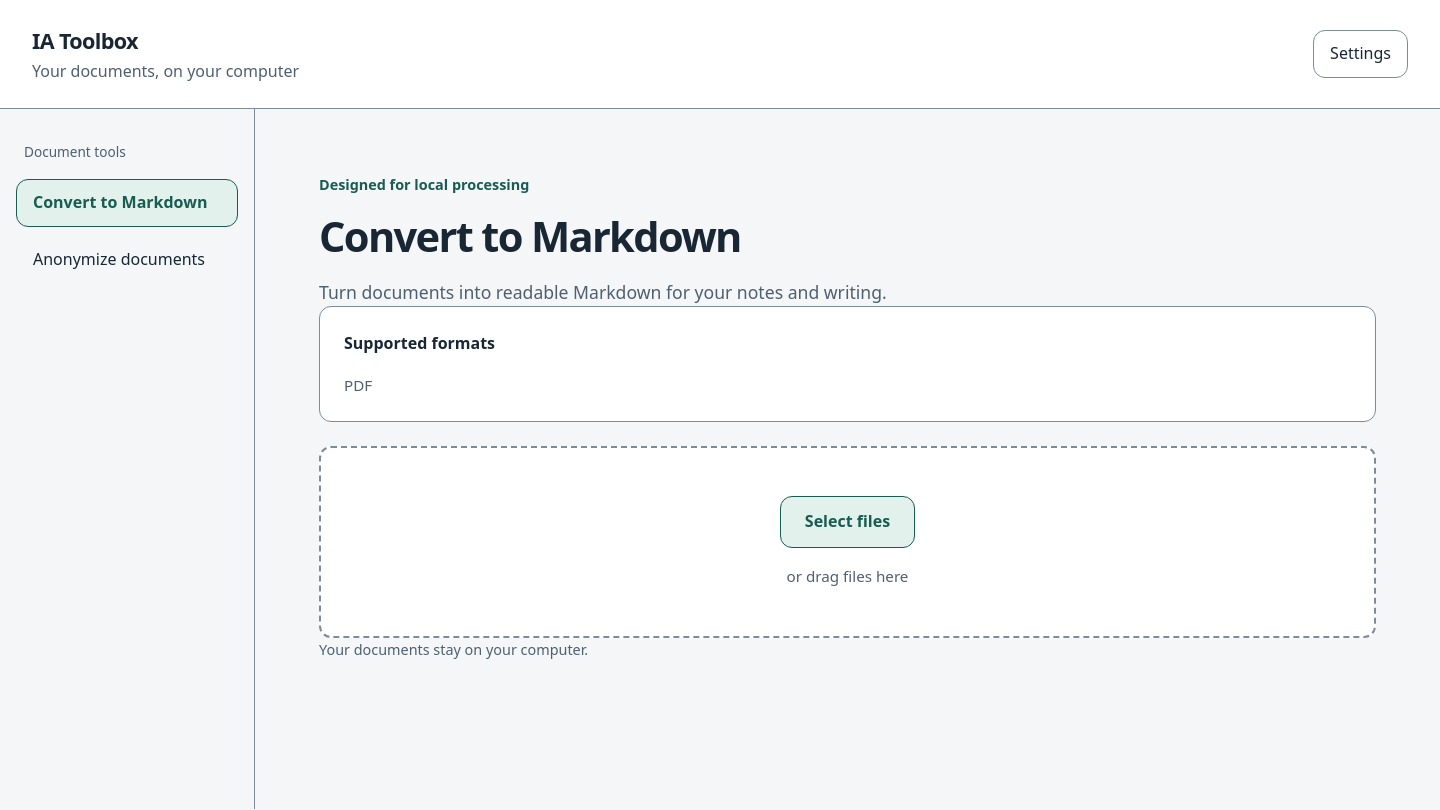
Test: renders named navigation and selected workflow content
Expected: the heading "Convert to Markdown" is shown, [319,208,741,264]
Click the button "Anonymize documents": x=127, y=260 [16,235,238,284]
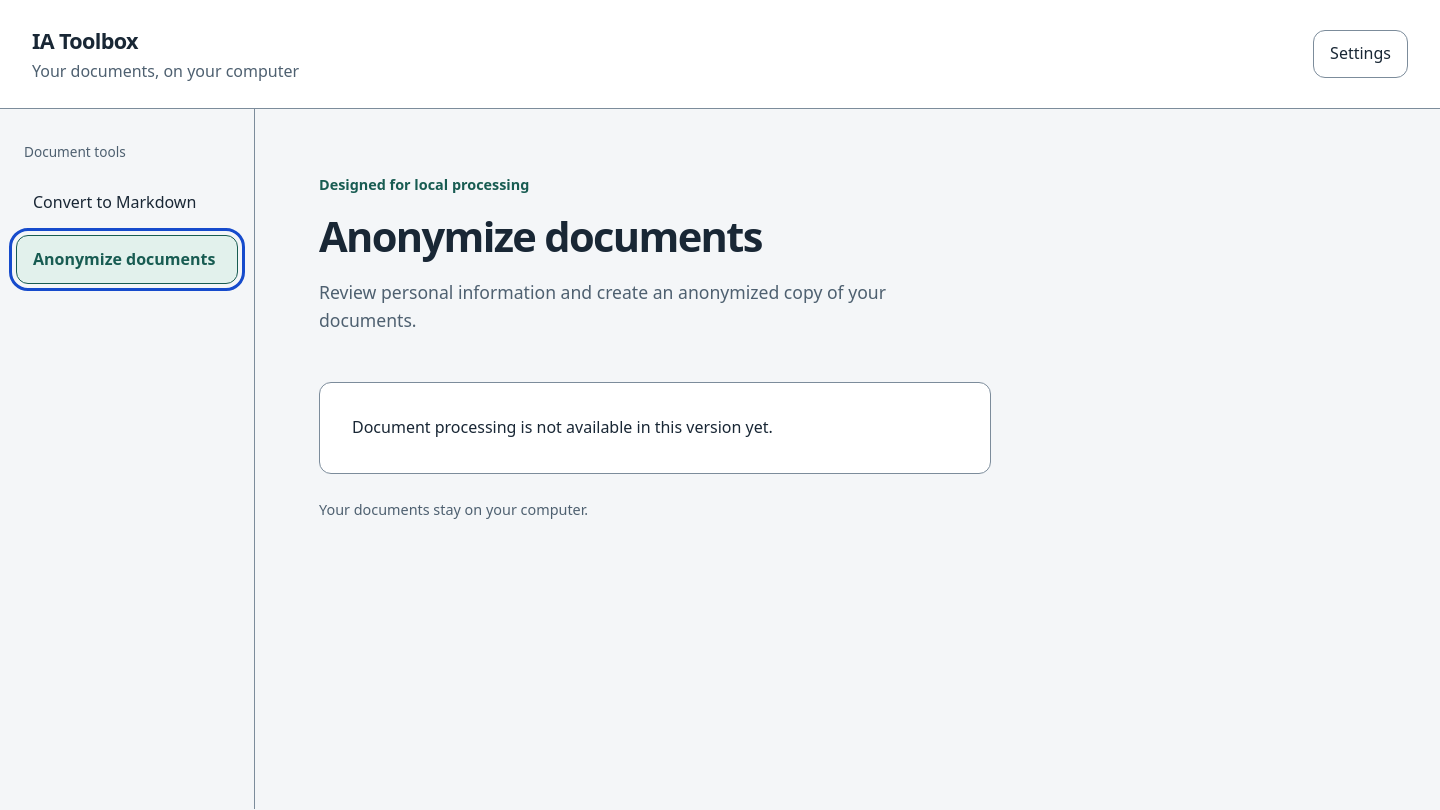
Now the heading "Anonymize documents" is shown, box [319,208,762,264]
Now the message shows "not available", box [352,416,773,438]
